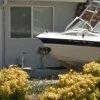Boat: (34, 16, 100, 64)
